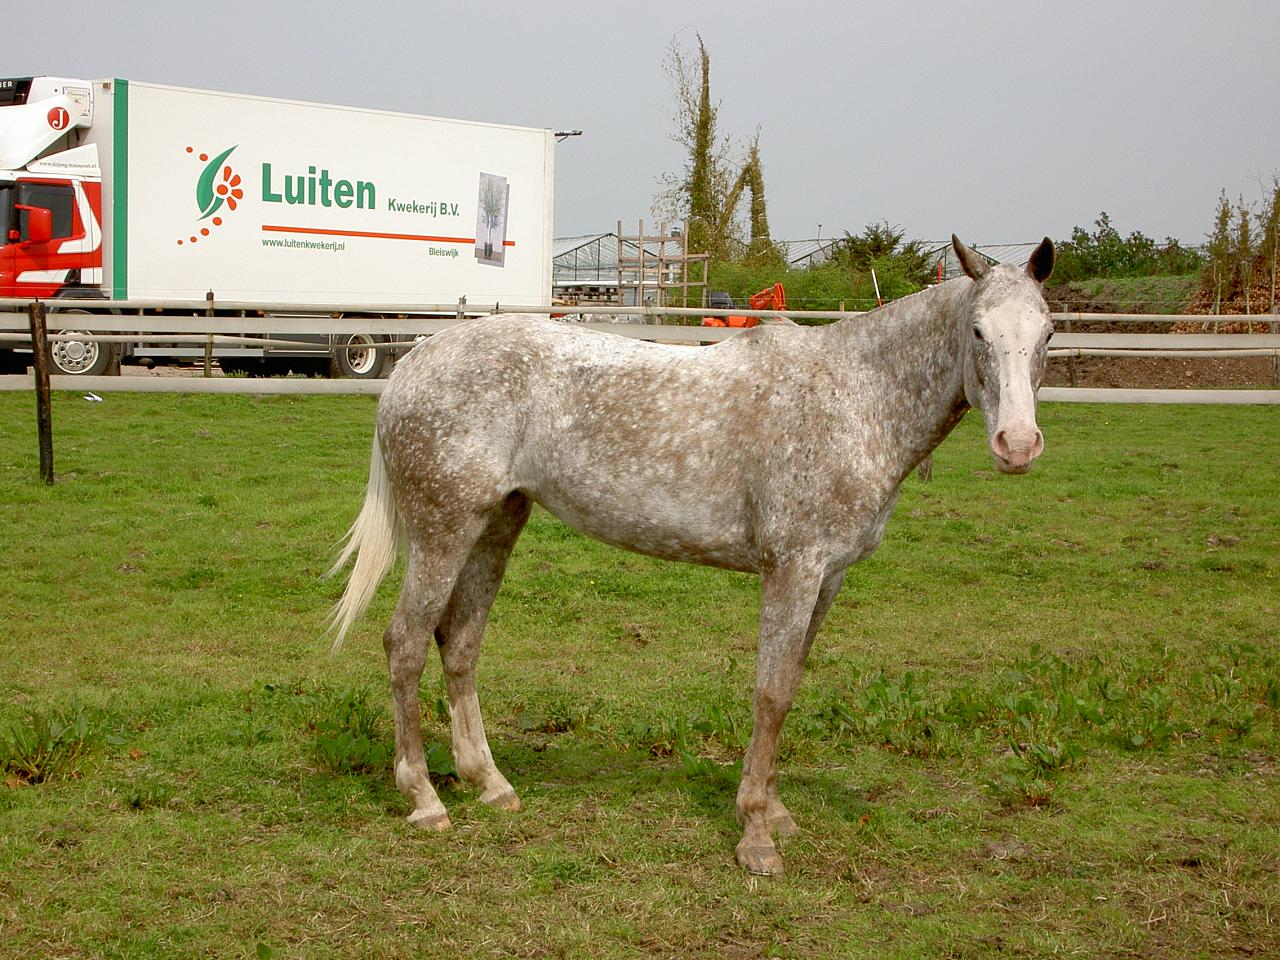horse: (350, 233, 1051, 891)
